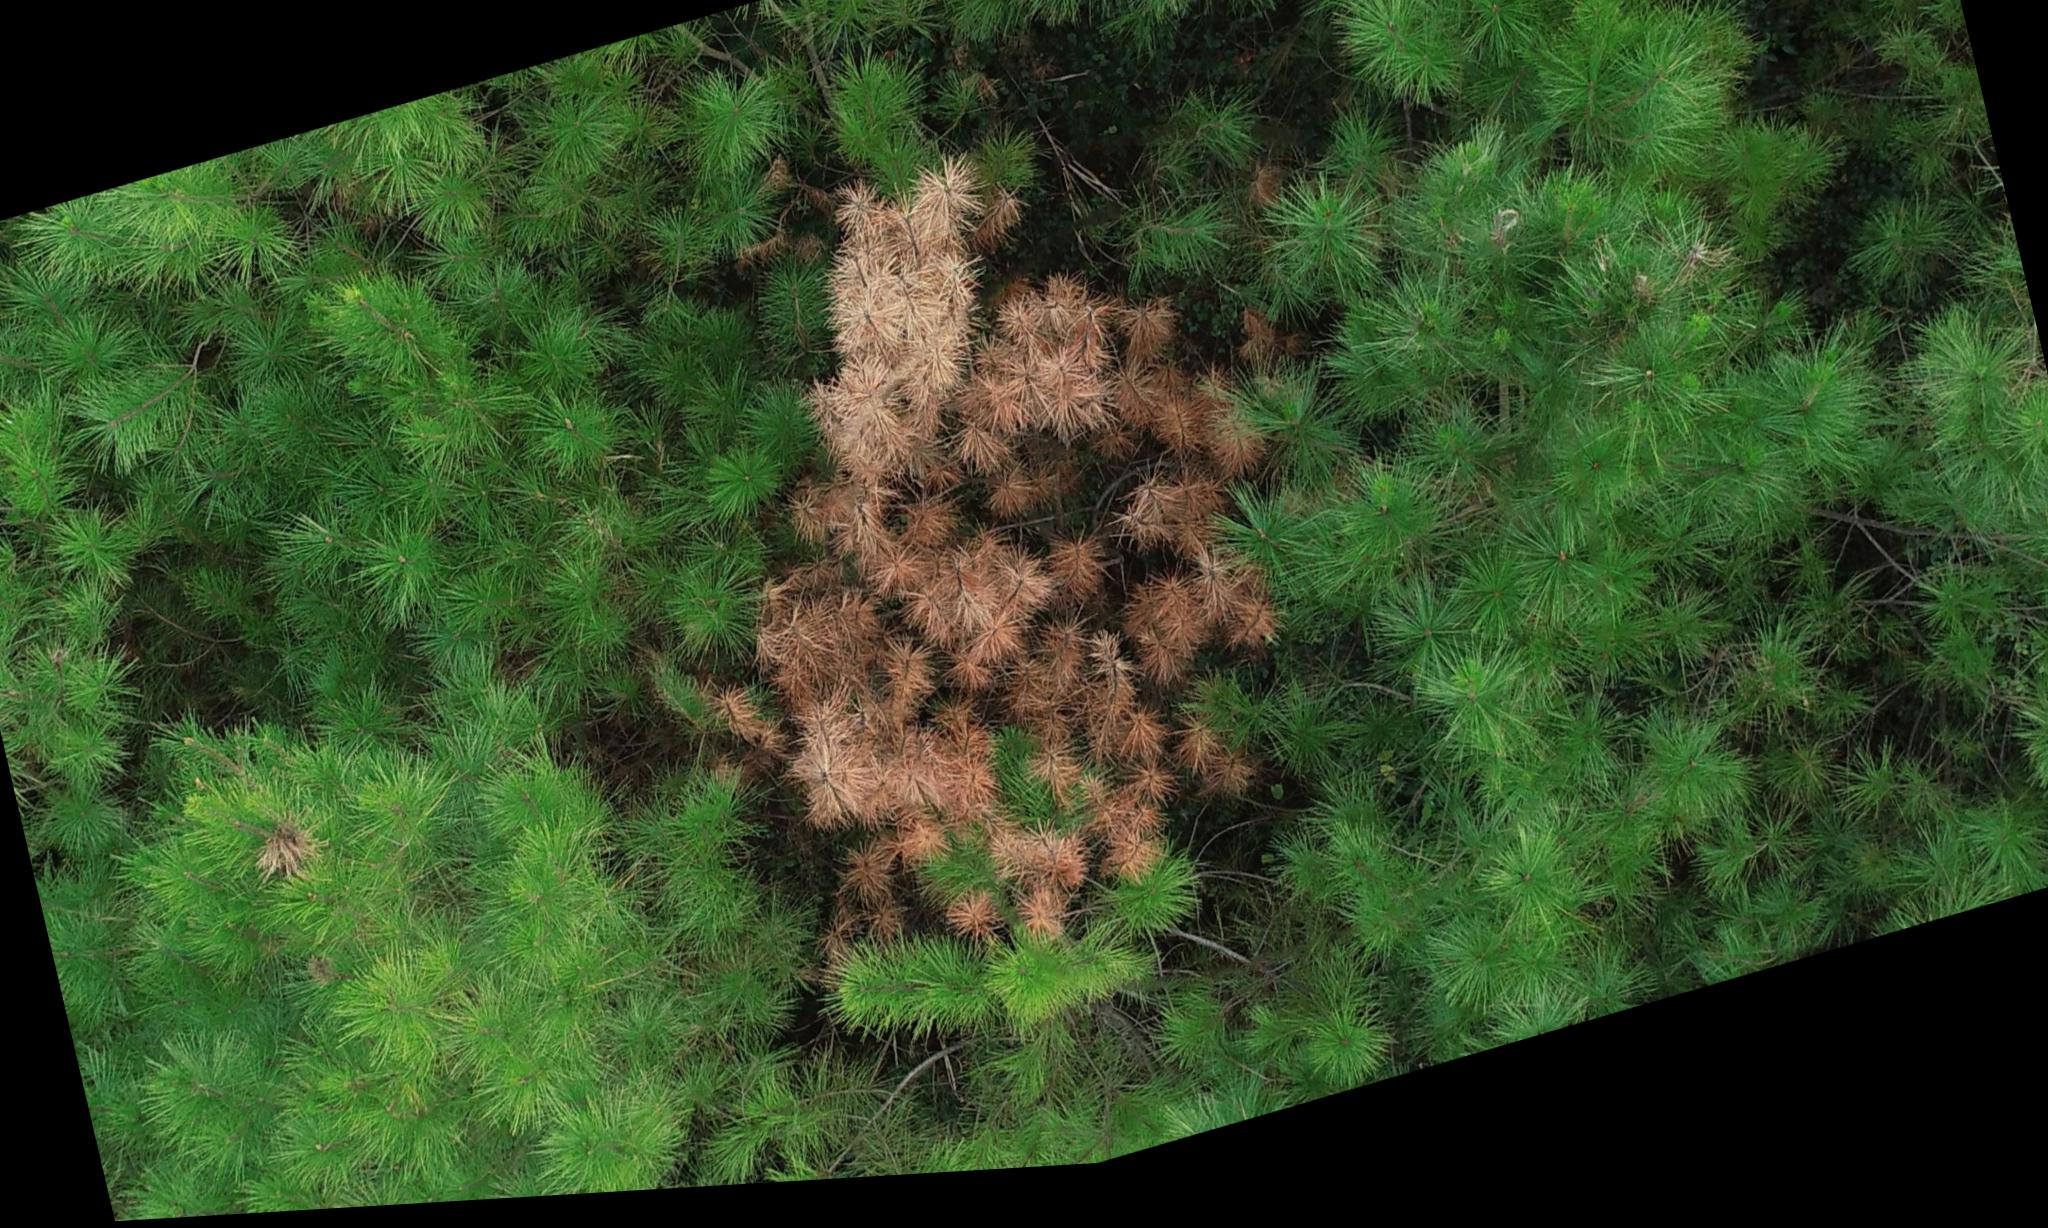heavy: (630, 86, 1396, 1001)
